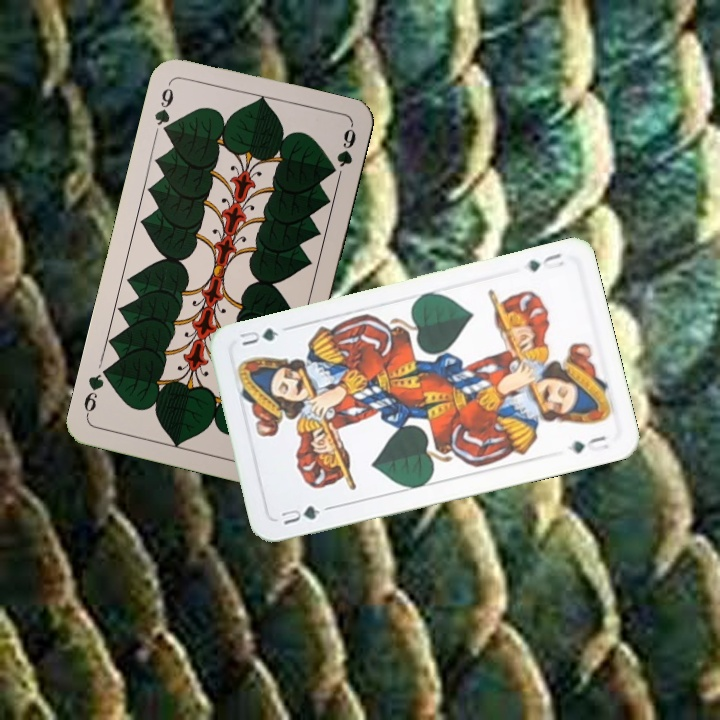G9: (150, 84, 176, 139)
GU: (277, 501, 332, 528), (523, 249, 567, 274)
